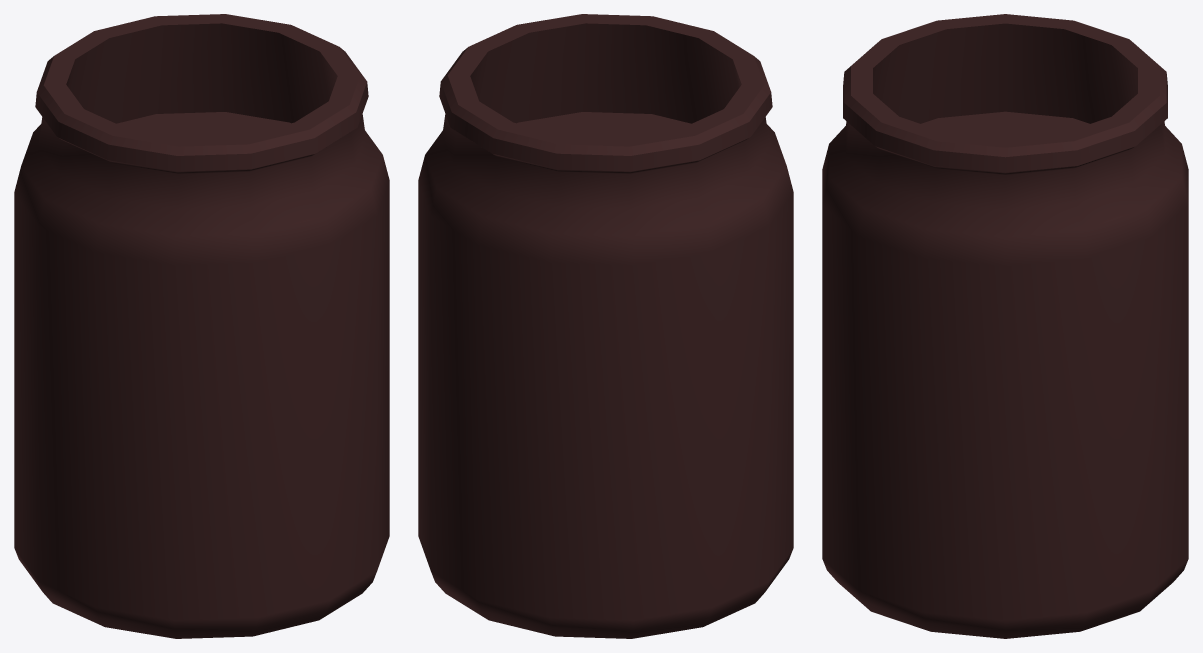
The model's file is SM_JamJar.fbx.
3 renders of one model, left to right at view 1: azimuth 30°, elevation 25°; view 2: azimuth 150°, elevation 25°; view 3: azimuth 270°, elevation 25°, orthographic.
Visible parts, largest first — view 1: jar; view 2: jar; view 3: jar.
Part boxes in pixels (x1,y1,x2,y2): jar: (14, 14, 389, 638); jar: (418, 14, 793, 638); jar: (822, 14, 1188, 638).
Size of the model in its own units: 0.26 by 0.3744 by 0.2535.
